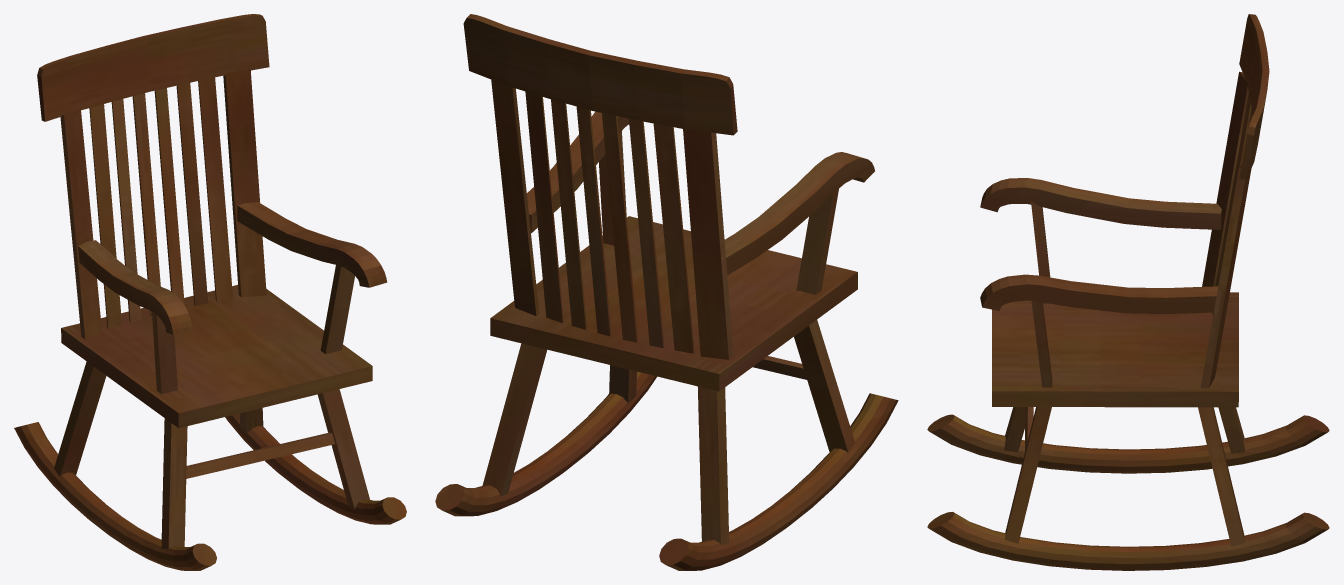
The model's file is chair.glb.
3 renders of one model, left to right at view 1: azimuth 30°, elevation 25°; view 2: azimuth 150°, elevation 25°; view 3: azimuth 270°, elevation 25°, orthographic. The views are drawn at different scales.
Visible parts, largest first — view 1: rockingchair; view 2: rockingchair; view 3: rockingchair.
Part boxes in pixels (x1=…): rockingchair: x1=14, y1=14, x2=406, y2=570; rockingchair: x1=435, y1=14, x2=898, y2=570; rockingchair: x1=927, y1=14, x2=1329, y2=570.
Size of the model in its own units: 2.51 by 4.55 by 3.67.
Materials: 1 (1 with a texture image).
